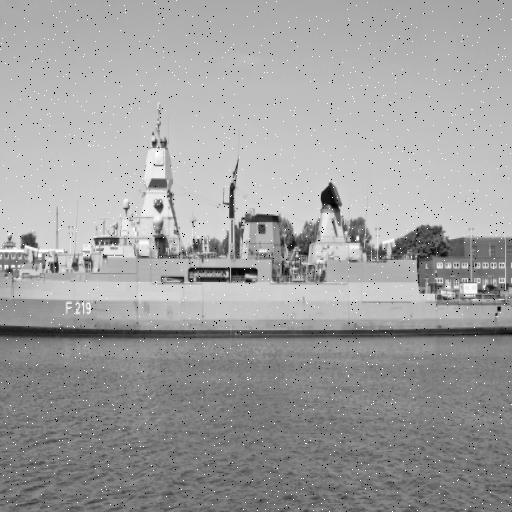Fragata: (1, 97, 512, 339)
